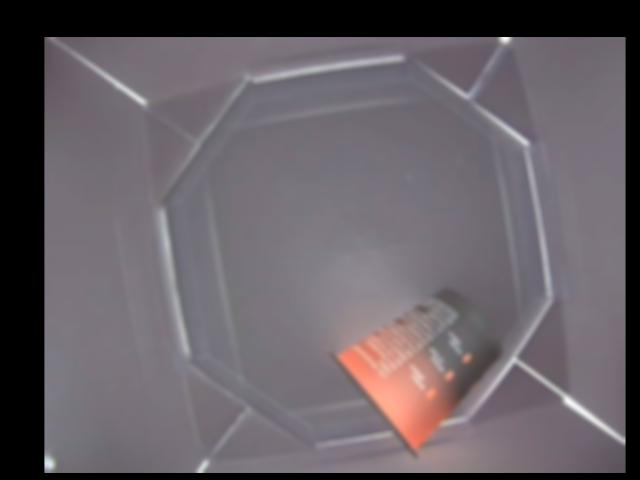Cup: (330, 284, 501, 455)
